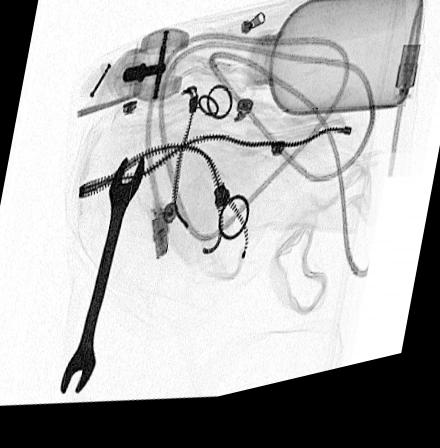Wrench: (57, 158, 143, 399)
